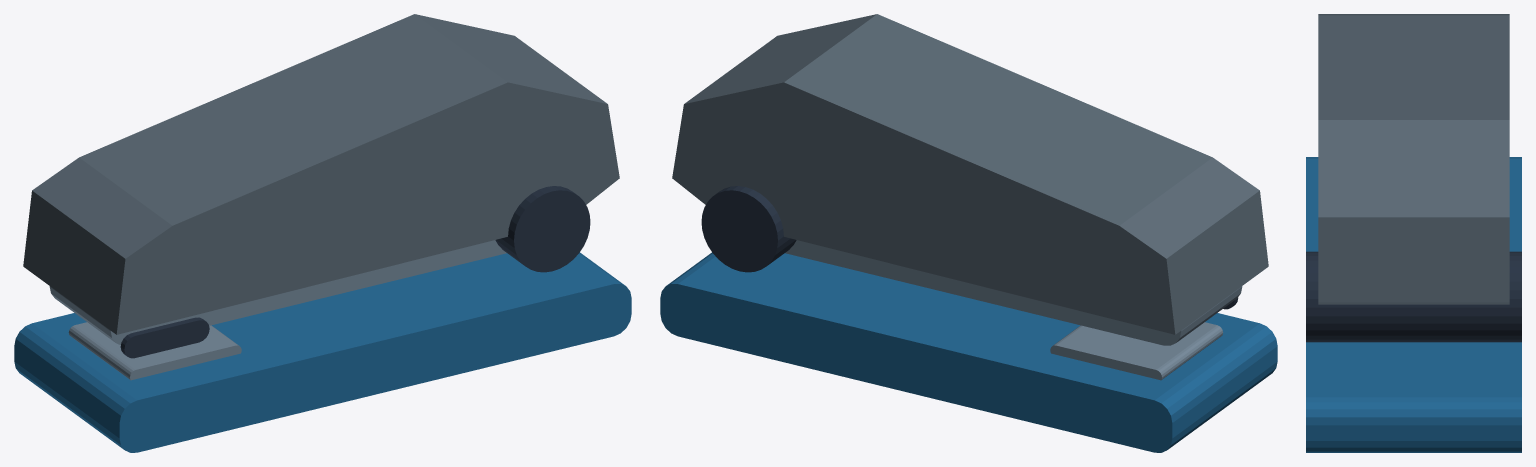
Rendered from nailer.glb.
3 renders of one model, left to right at view 1: azimuth 30°, elevation 25°; view 2: azimuth 150°, elevation 25°; view 3: azimuth 270°, elevation 25°, orthographic. The views are drawn at different scales.
Parts seen in each view (by area): view 1: lever, base, hinge, magazine, anvil, paper notch; view 2: lever, base, magazine, hinge, anvil; view 3: lever, base, hinge.
Boxes of the visible parts, <box> form: lever: <box>23,14,619,334</box>; base: <box>14,252,631,452</box>; hinge: <box>495,186,590,272</box>; magazine: <box>49,240,506,345</box>; anvil: <box>68,322,241,380</box>; paper notch: <box>120,317,209,358</box>; lever: <box>672,14,1268,334</box>; base: <box>660,252,1277,452</box>; magazine: <box>785,240,1242,345</box>; hinge: <box>701,186,796,272</box>; anvil: <box>1050,322,1223,380</box>; lever: <box>1318,14,1509,304</box>; base: <box>1306,157,1521,452</box>; hinge: <box>1306,251,1521,342</box>.
Size of the model in its own units: 1.74 by 0.89 by 0.62.
